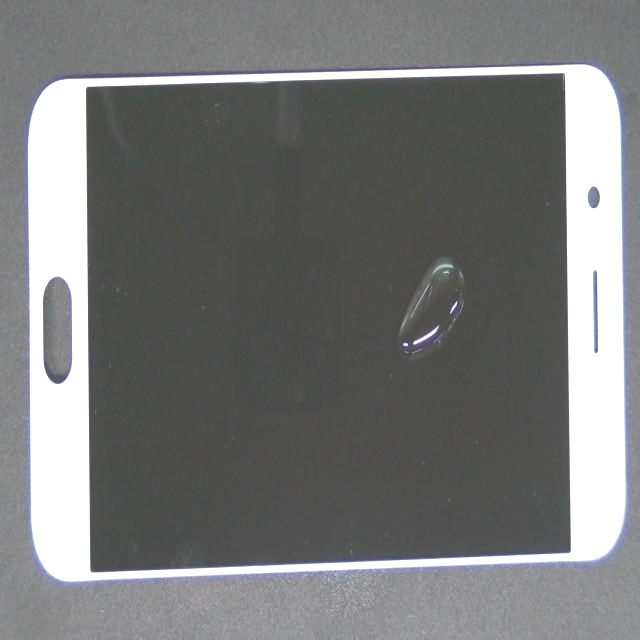oil: (236, 171, 640, 438)
